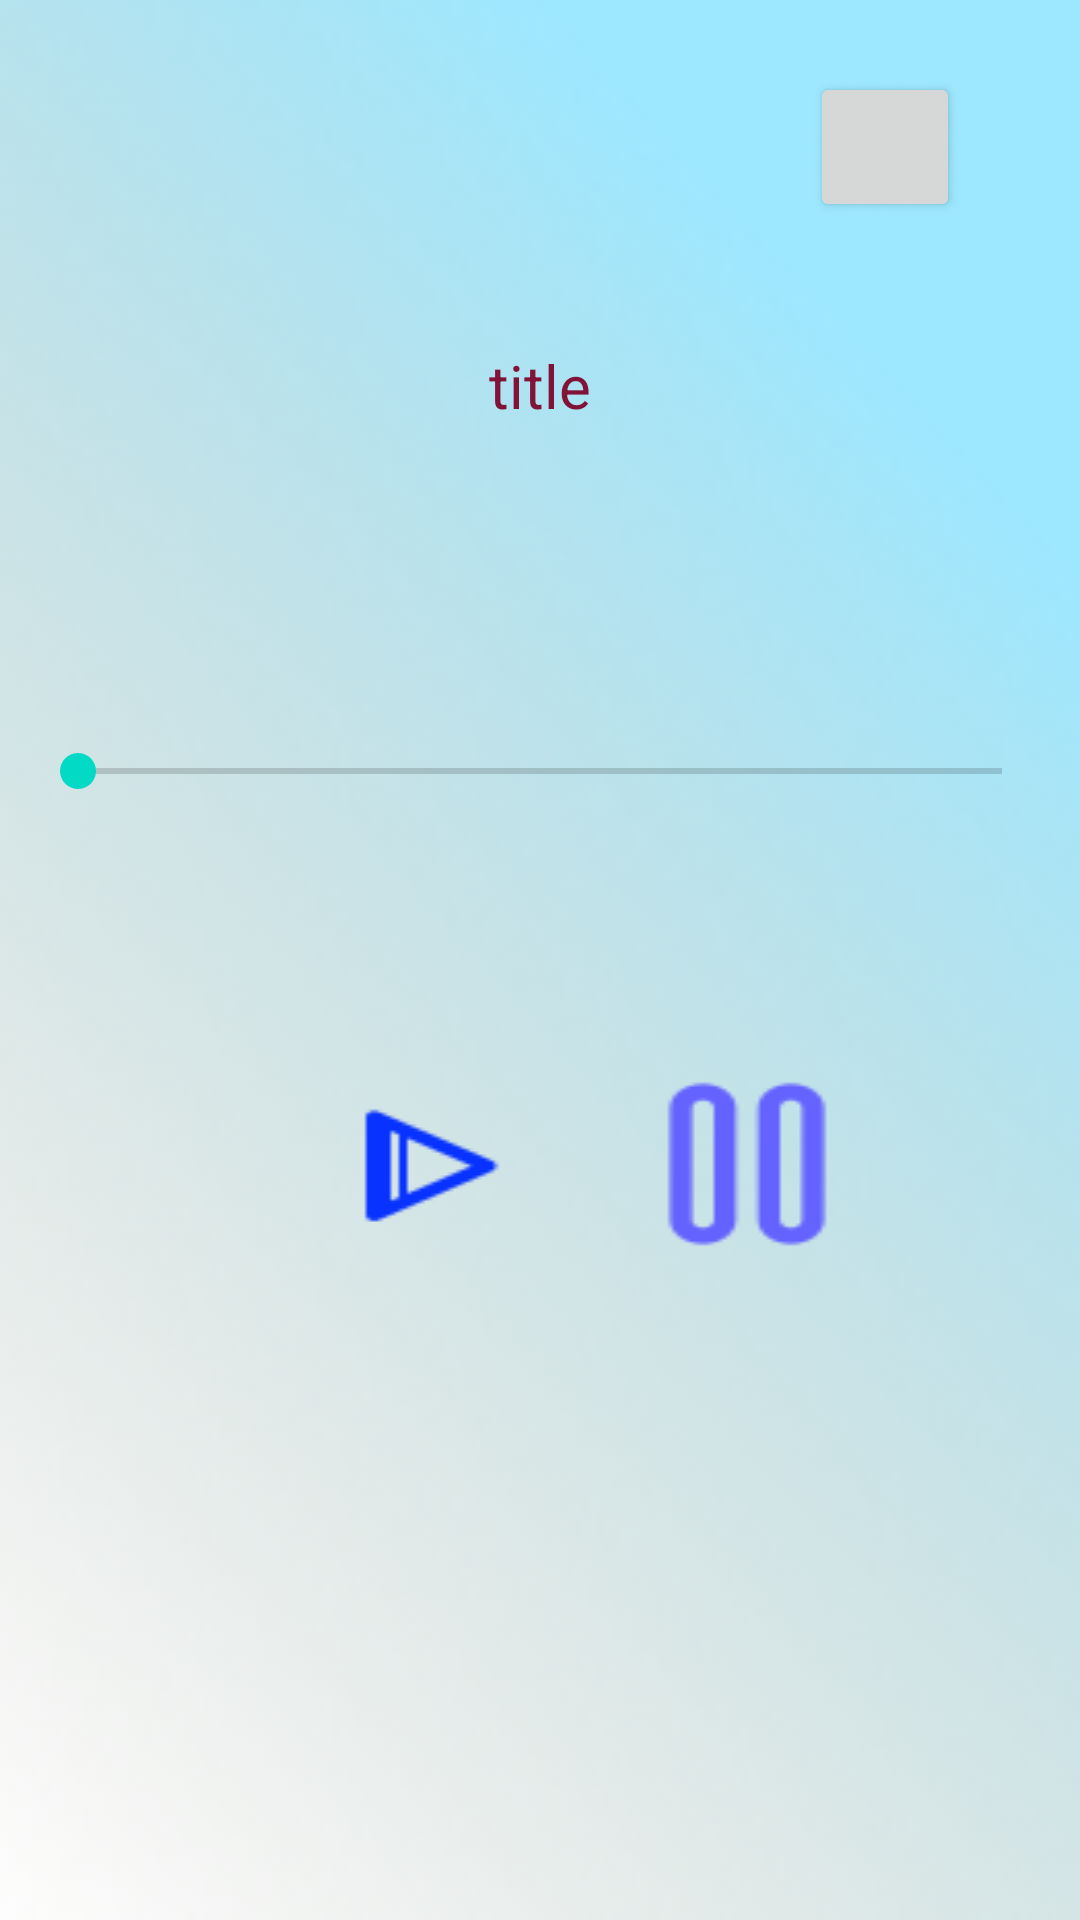

Named icons in this screenshot (1080*1920) and their bounding boxes, (x1, y1, x2, y2):
pause: (668, 1082, 827, 1246)
start: (364, 1109, 499, 1222)
